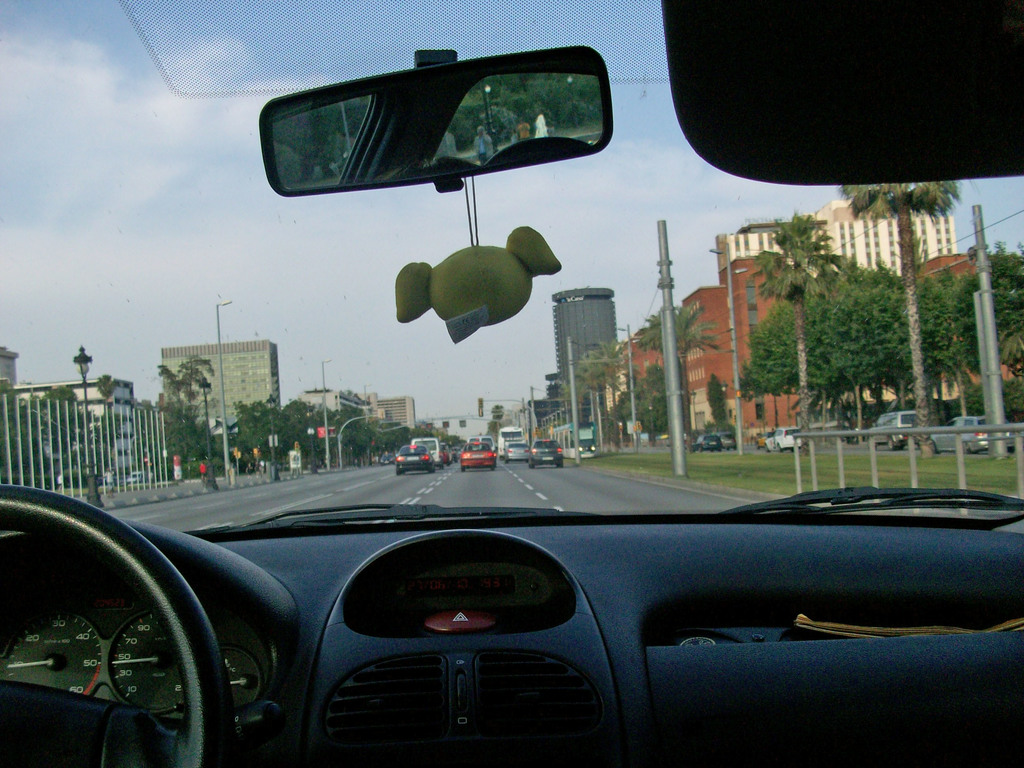mobil: (524, 437, 568, 471), (457, 445, 498, 472), (392, 445, 433, 471)
